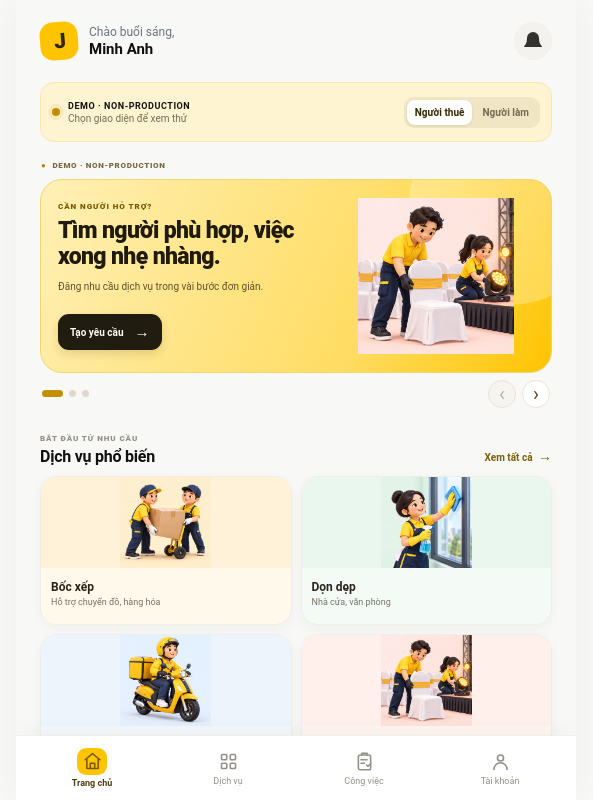
Scenario: AppShell role context › switches to worker home and resets worker navigation to home
The image size is (593, 800).
What coordinates should you click on to do the following:
click the button "Người làm"
I would click on:
 (506, 112)
Its box is [474,100,537,124].
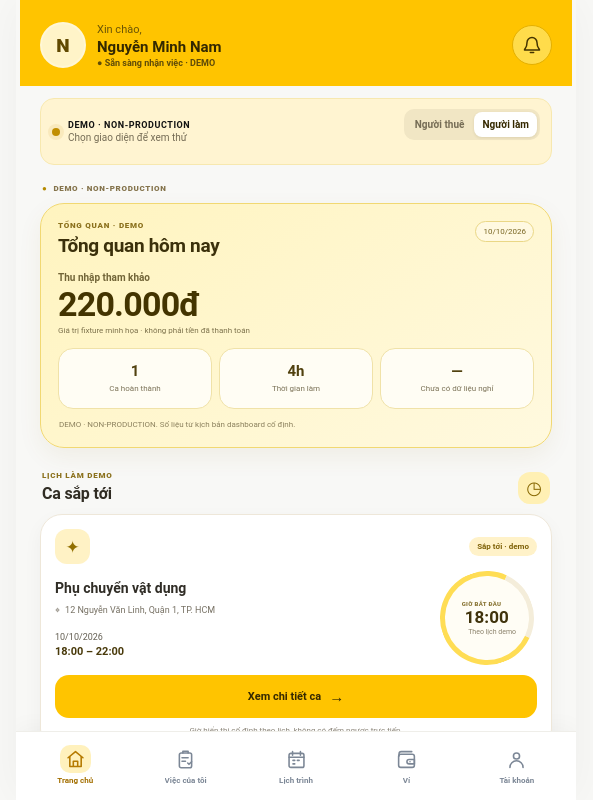
Expected: the heading "Dịch vụ phổ biến" is gone
